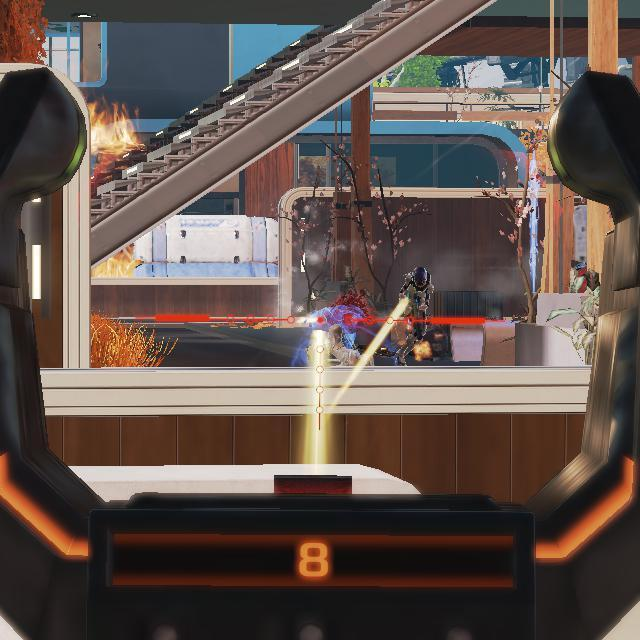avatar: (393, 263, 438, 367)
